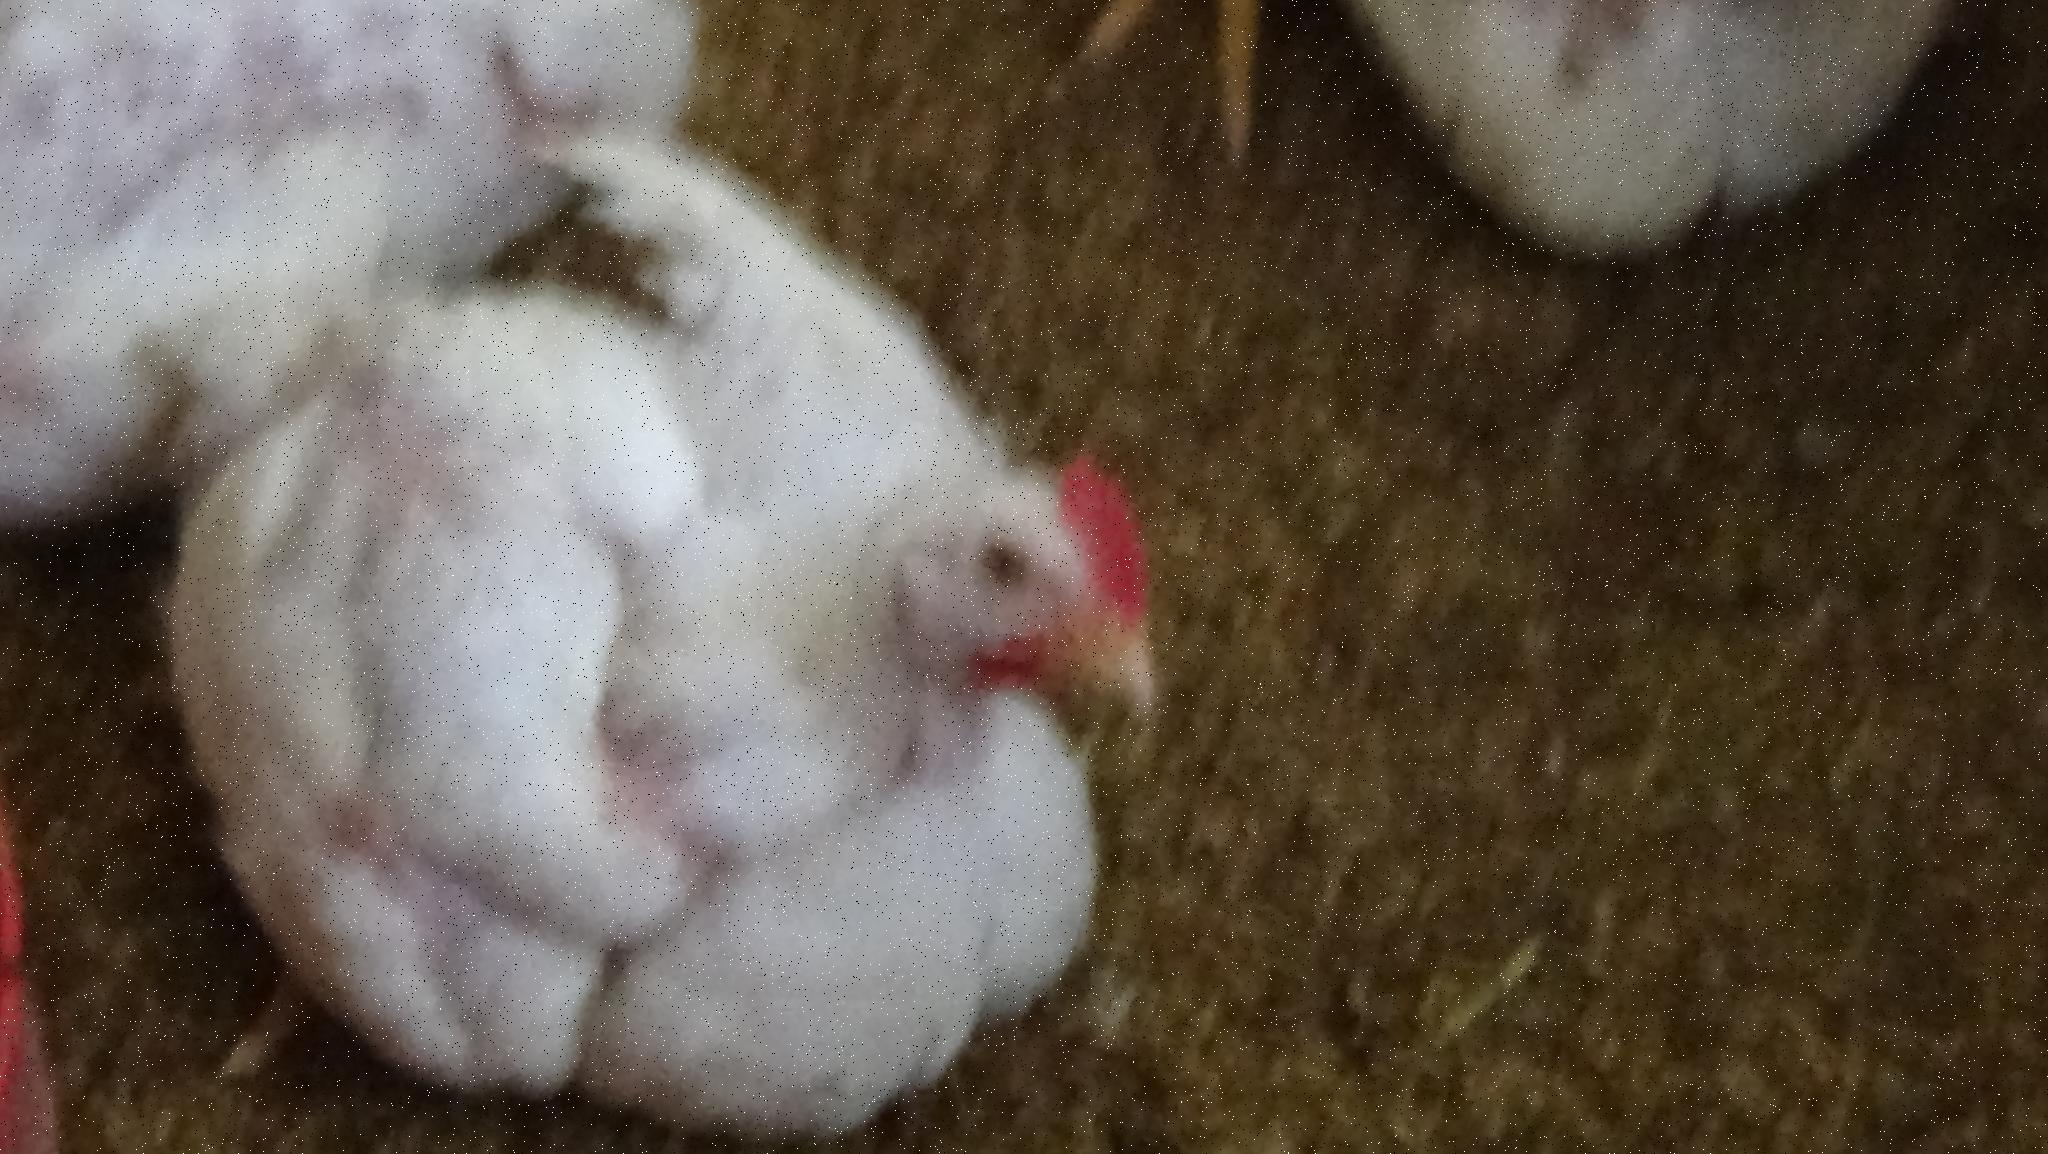Pollos: (201, 155, 1182, 1103)
